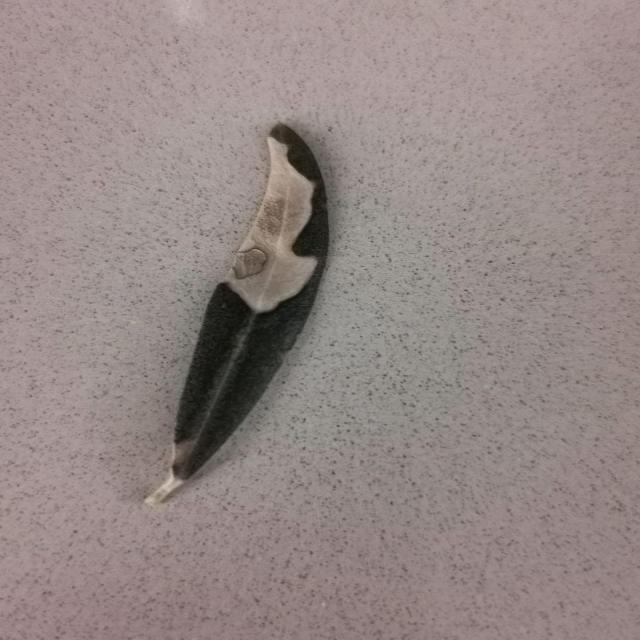Peacock Eye: (153, 122, 329, 502)
